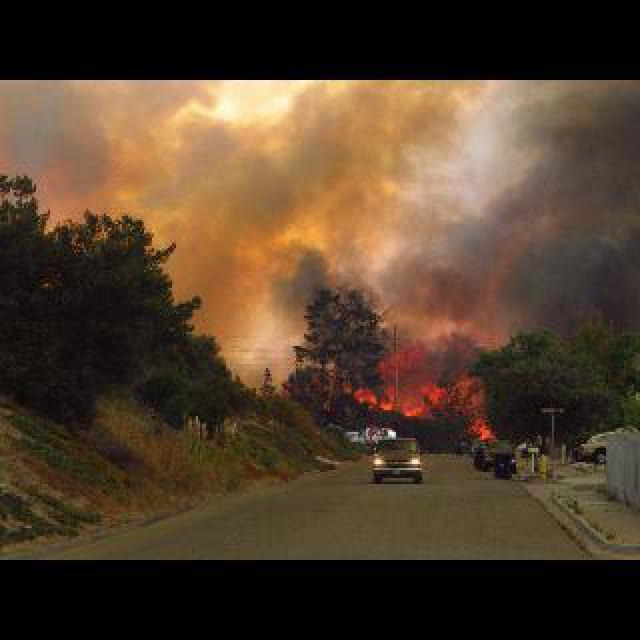fire: (320, 342, 496, 440)
smoke: (486, 80, 638, 348), (394, 212, 458, 378), (256, 223, 344, 332)
